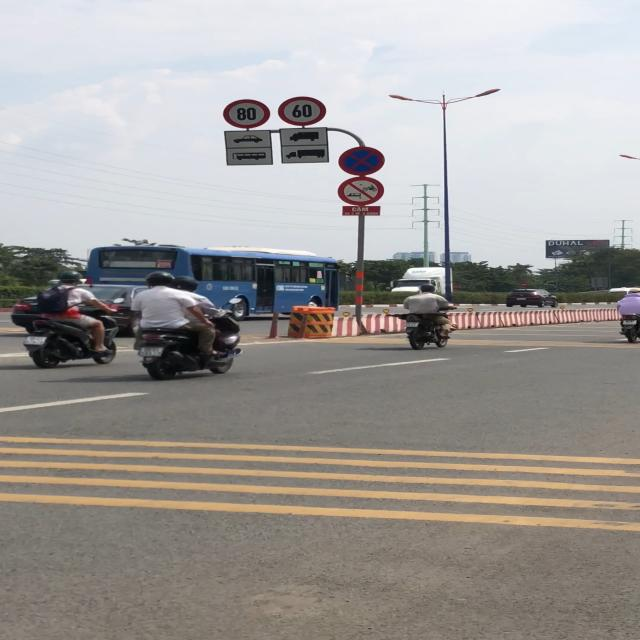Bien bao cam dung xe va do xe: (337, 146, 386, 176)
Bien bao toc do toi da cho phep: (278, 96, 328, 126), (224, 99, 270, 131)
